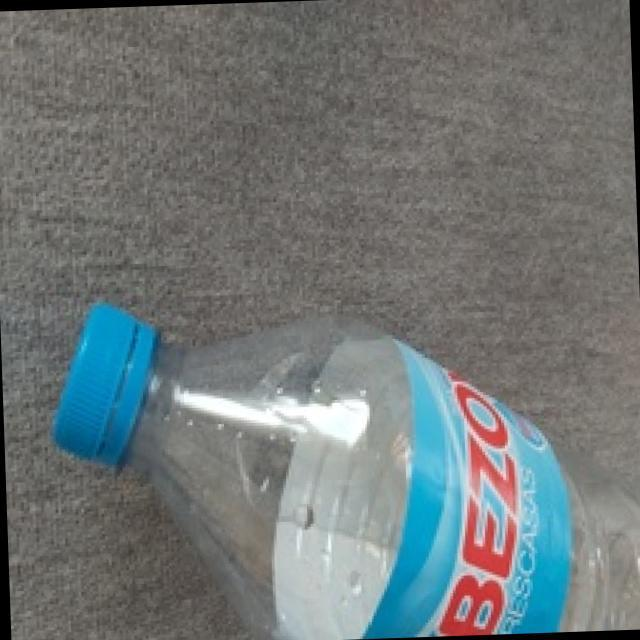good: (47, 277, 640, 640)
